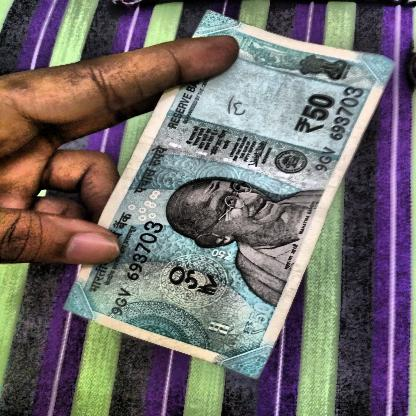Rs50: (288, 86, 344, 140)
